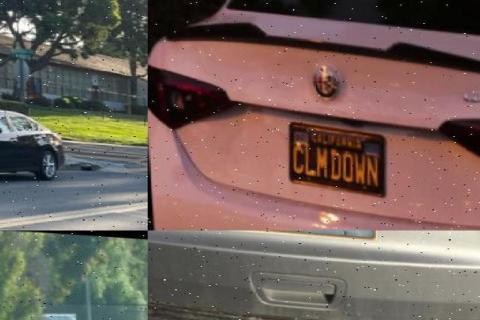LicensePlate: (282, 116, 387, 193)
